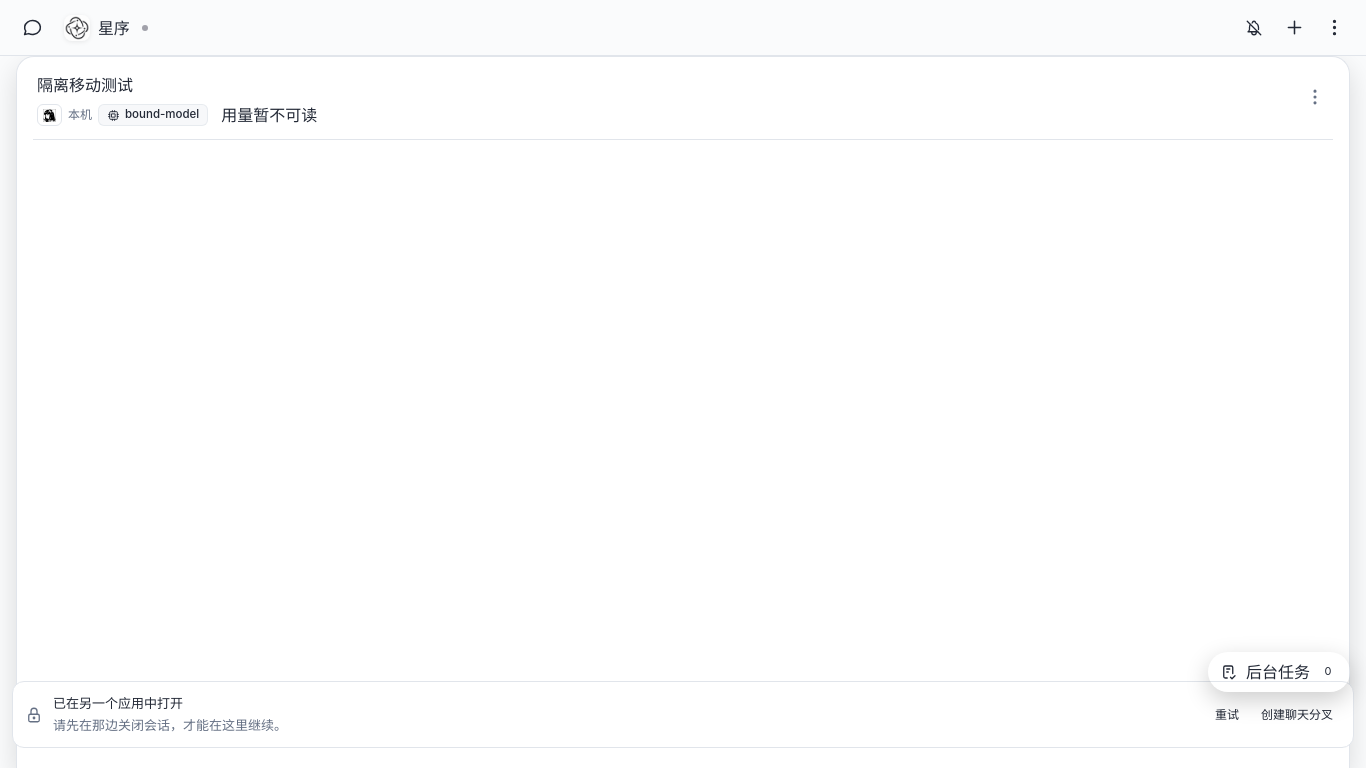
independent mobile composer › prevents changing model, reasoning and approval mode for a read-only session
This screenshot has width=1366, height=768.
Check: the text "已在另一个应用中打开" is shown, box left=53, top=695, right=183, bottom=711
Click the button with aria-label "选择会话模型". click: (153, 115)
box: left=98, top=104, right=208, bottom=126
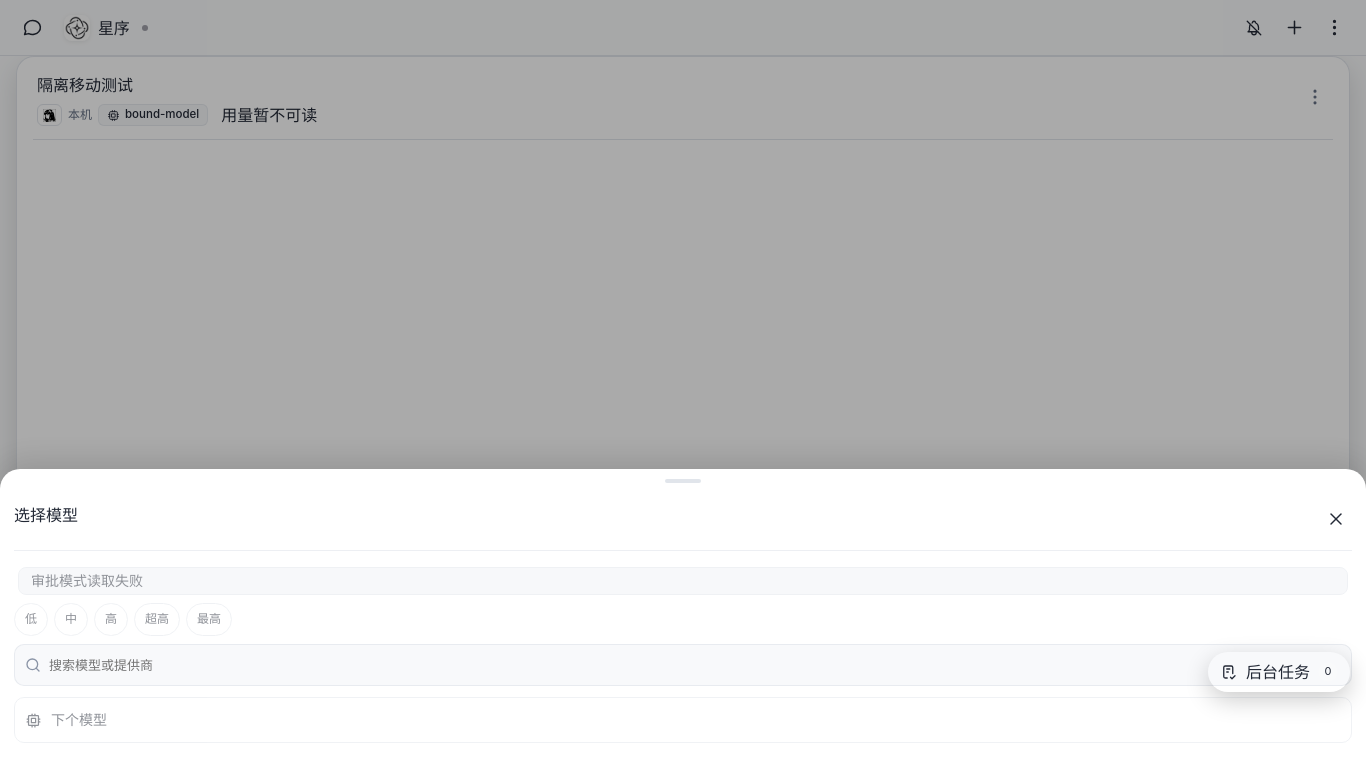
Check: the button "下个模型" is disabled, box left=14, top=697, right=1352, bottom=743
Check: the button named "思考强度 " is disabled, box left=14, top=603, right=48, bottom=636
Check: the button with aria-label "思考强度 " is disabled, box left=134, top=603, right=180, bottom=636
